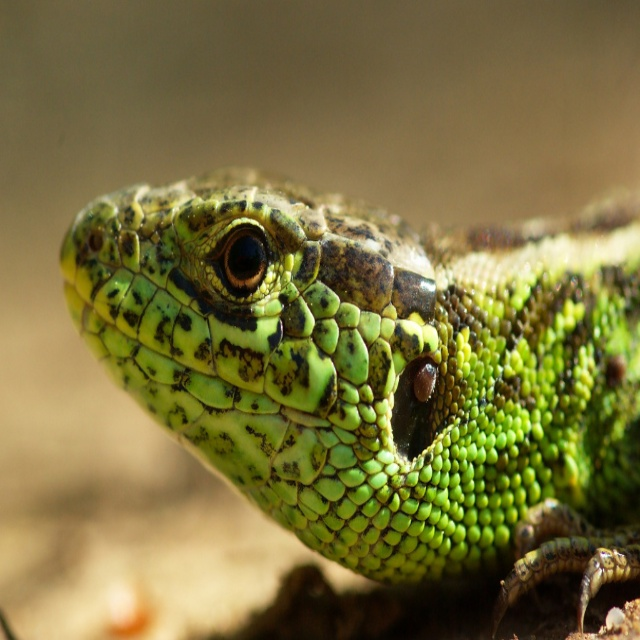Lizard: (58, 165, 640, 640)
